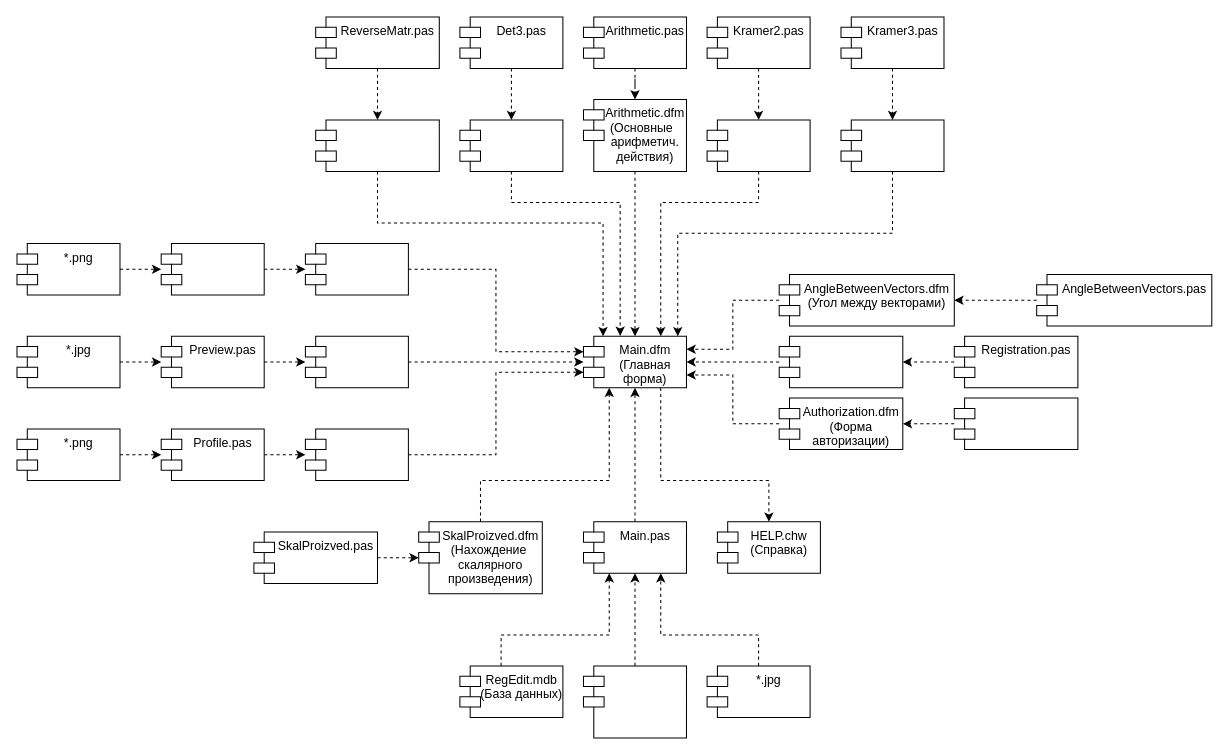
This 1229x755 diagram has some shape labels left out. The centre of each missing label's shape, as x and y in pixels:
"*.html (Странички с учебными материалами)" belongs at (634,701).
"About.dfm (О программе)" belongs at (356,269).
"About.pas" belongs at (212,269).
"Authorization.pas" belongs at (1015,423).
"Det3.dfm (Нахождение определителя)" belongs at (511,145).
"Kramer2.dfm (м.Крамера матрицы 2х2)" belongs at (758,145).
"Kramer3.dfm (м.Крамера матрицы 3х3)" belongs at (892,145).
"Preview.dfm (Заставка)" belongs at (356,361).
"Profile.dfm (Окно профиля)" belongs at (356,454).
"Registration.dfm (Форма регистрации)" belongs at (840,361).
"ReverseMatr.dfm (Поиск обратной матрицы)" belongs at (377,145).
